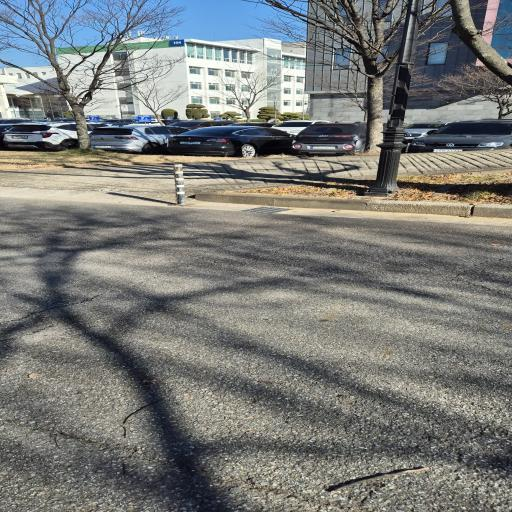drain: (238, 206, 288, 213)
